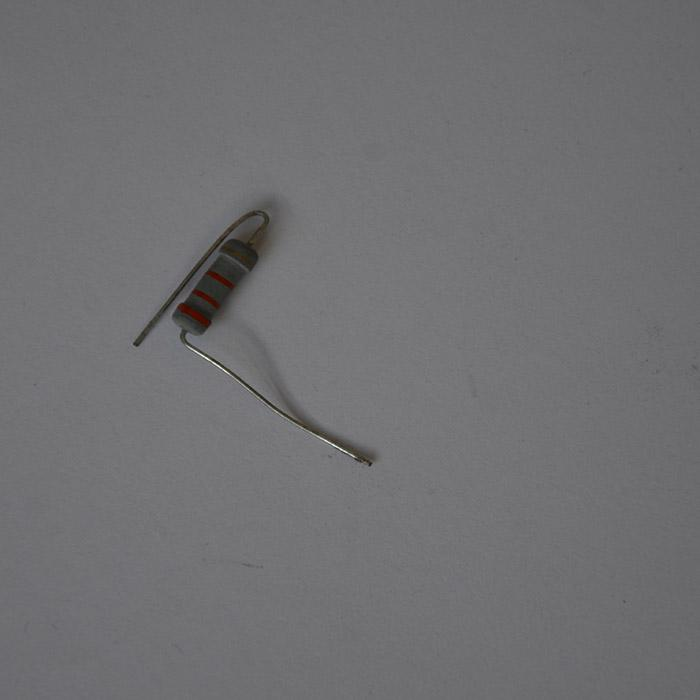resistor: (171, 237, 258, 337)
